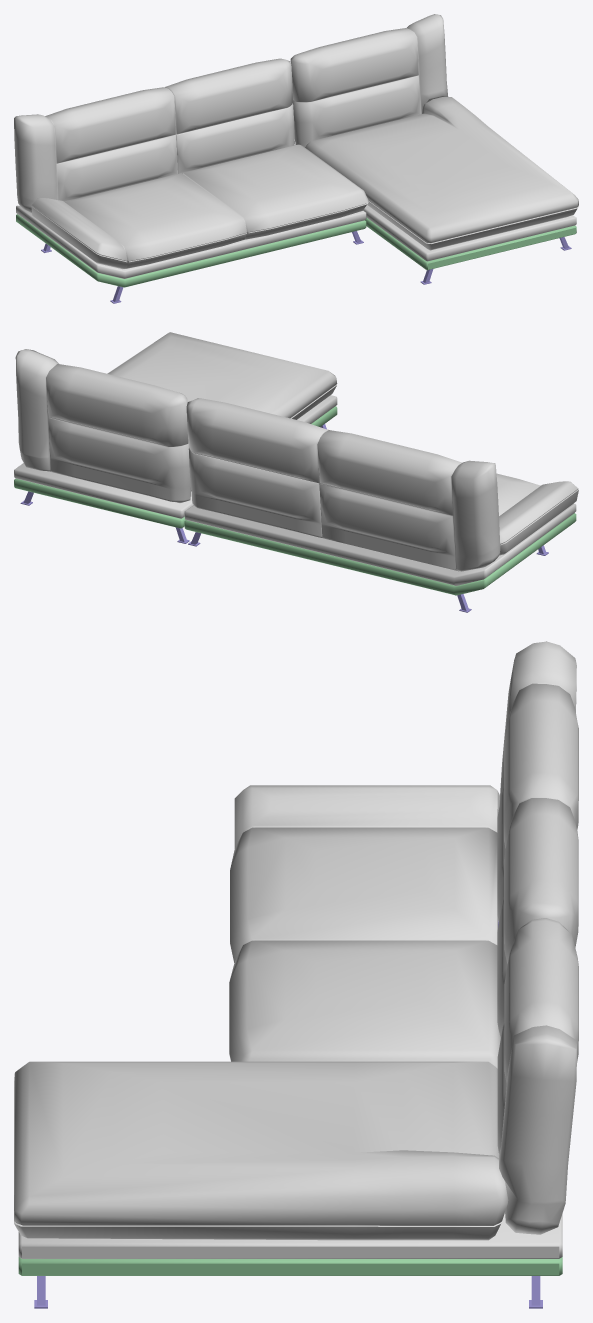
File: GJSF913D.FBX
3 views of the same model, one above another, from view 1: azimuth 30°, elevation 25°; view 2: azimuth 150°, elevation 25°; view 3: azimuth 270°, elevation 25° (orthographic). The views are drawn at different scales.
Visible parts, largest first — view 1: GJSF913D; view 2: GJSF913D; view 3: GJSF913D.
Boxes of the visible parts, left/top/right/bottom form: GJSF913D: left=14, top=14, right=578, bottom=303; GJSF913D: left=14, top=332, right=578, bottom=612; GJSF913D: left=14, top=641, right=578, bottom=1308.
Bounding box in the file's own units: 279 × 164 × 86.
